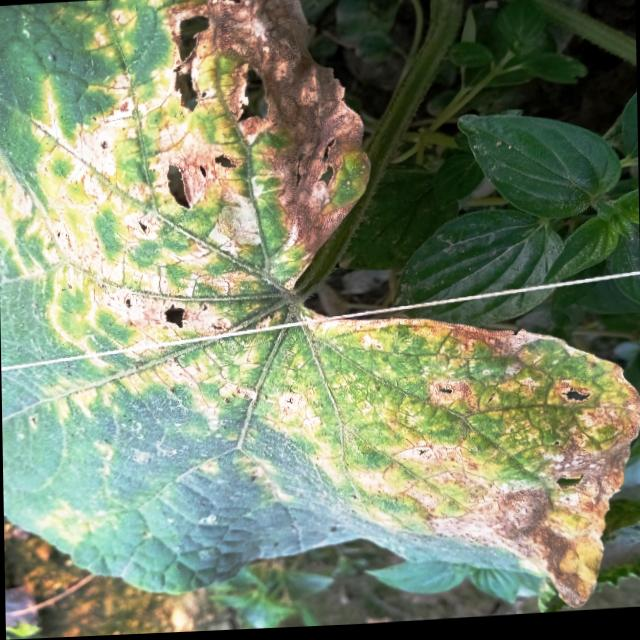Anthracnose: (160, 41, 346, 218), (547, 463, 595, 502), (159, 292, 196, 334), (558, 382, 593, 413)
